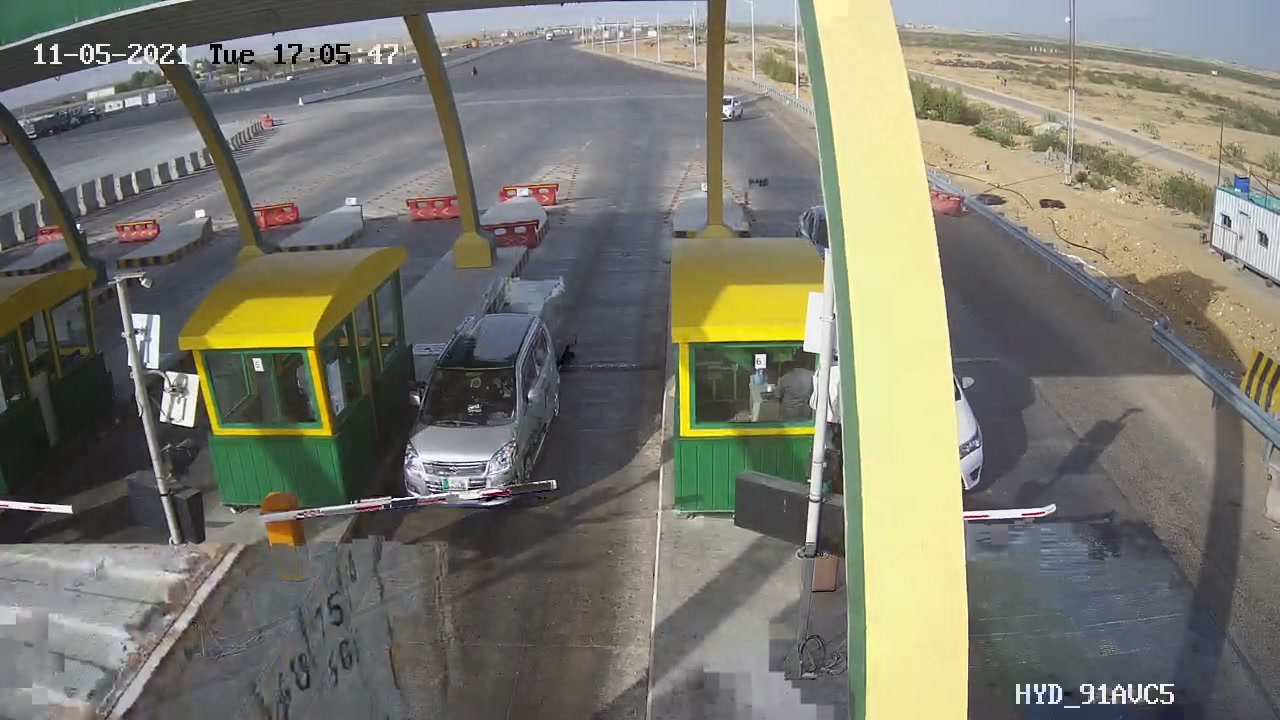F1: (383, 292, 589, 529)
